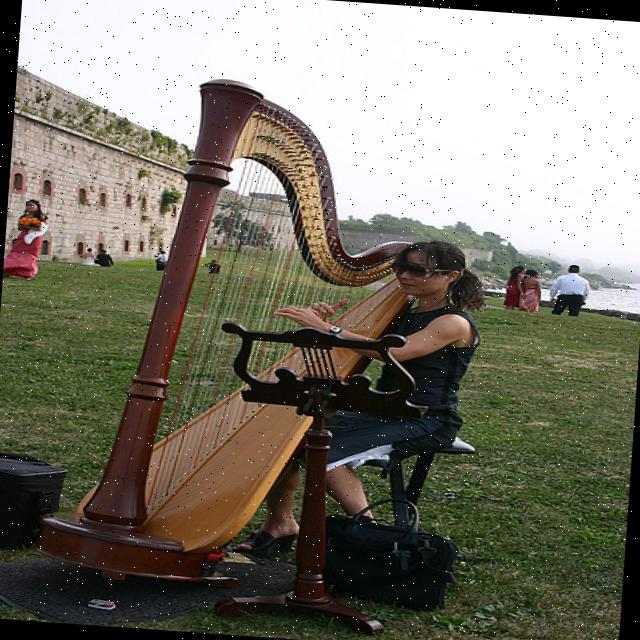harp: (30, 63, 436, 598)
